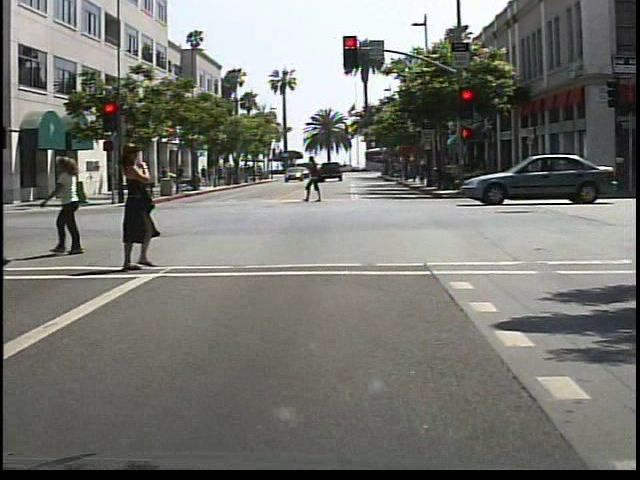person: (112, 137, 170, 274), (49, 157, 100, 260), (301, 155, 330, 205), (1, 146, 7, 279), (170, 163, 186, 191)
